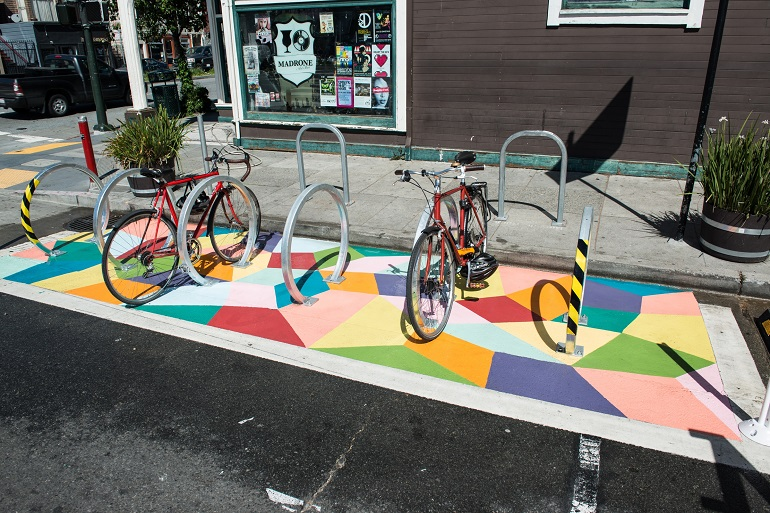bike: (382, 141, 527, 349)
